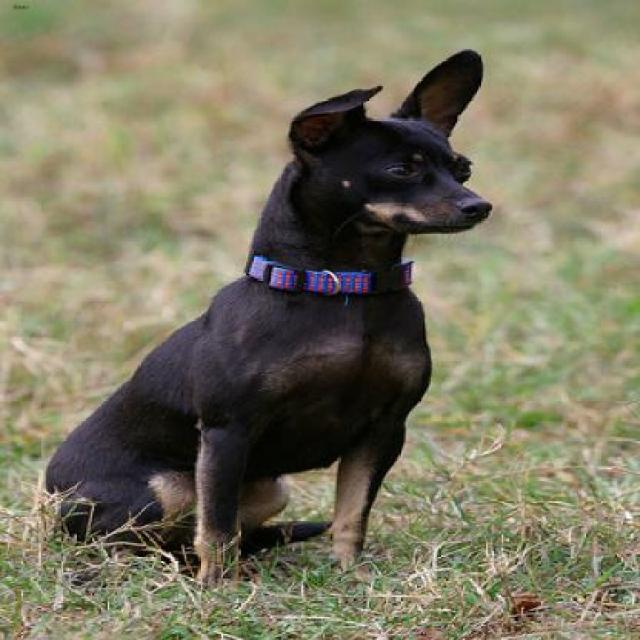Dog: (47, 48, 496, 600)
